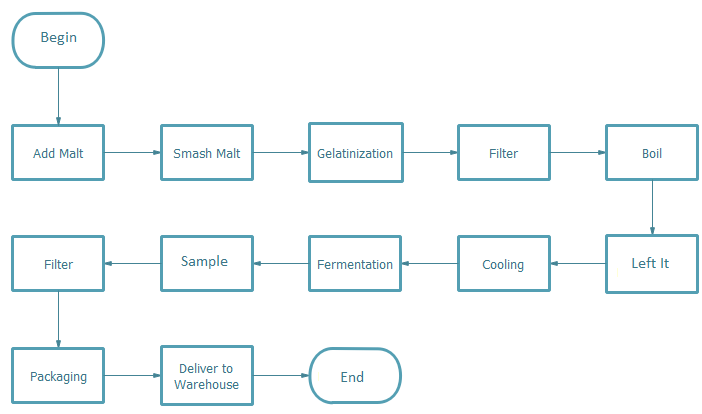arrow: (103, 258, 162, 269), (253, 258, 309, 269), (102, 371, 162, 381), (105, 148, 160, 158), (401, 258, 460, 267), (550, 260, 607, 269), (253, 371, 309, 380), (550, 148, 604, 157), (253, 148, 309, 156), (403, 149, 459, 157), (54, 293, 62, 348), (55, 69, 62, 124), (649, 181, 656, 234)
process: (305, 120, 406, 185), (157, 343, 257, 408), (602, 232, 702, 295), (453, 121, 554, 183), (455, 232, 553, 295), (157, 232, 255, 295), (9, 232, 108, 294), (306, 233, 404, 295), (158, 122, 257, 183), (9, 122, 108, 183), (9, 345, 107, 406), (603, 123, 702, 182)
terminator: (11, 10, 107, 72), (308, 345, 404, 407)
text: (172, 360, 240, 390), (315, 257, 393, 274), (315, 147, 393, 162), (28, 369, 88, 385), (171, 148, 243, 161), (31, 146, 85, 160), (178, 255, 228, 269), (629, 254, 669, 270), (481, 258, 525, 272), (37, 30, 78, 45), (41, 258, 75, 272), (485, 147, 518, 161), (337, 369, 365, 385), (641, 146, 664, 162)
